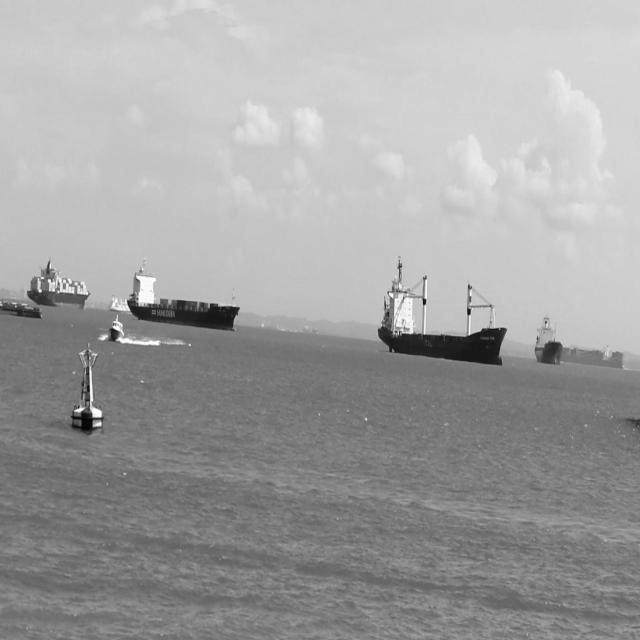buoy: (72, 344, 105, 434)
ship: (377, 256, 508, 366), (128, 261, 242, 333), (27, 260, 92, 311), (533, 312, 564, 367), (562, 345, 625, 371), (0, 298, 44, 320), (108, 292, 130, 314), (108, 315, 125, 343)
